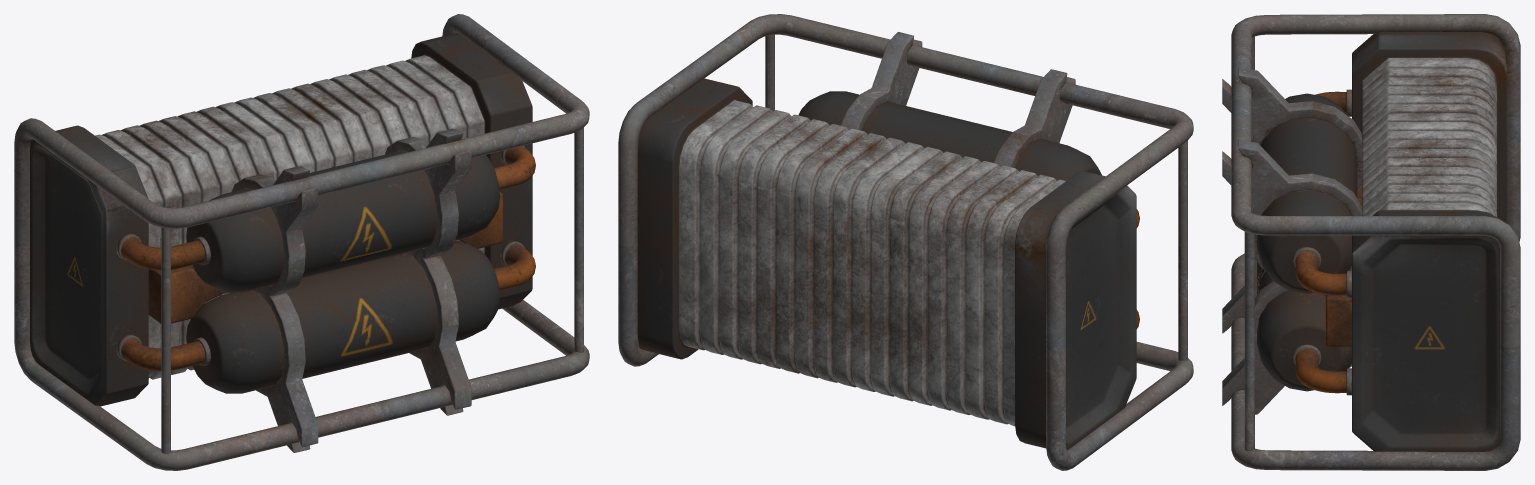
Rendered from Industrial Battery LP.fbx.
3 renders of one model, left to right at view 1: azimuth 30°, elevation 25°; view 2: azimuth 150°, elevation 25°; view 3: azimuth 270°, elevation 25°, orthographic. The views are drawn at different scales.
Parts seen in each view (by area): view 1: Battery; view 2: Battery; view 3: Battery.
Part boxes in pixels (left/top/right/bottom): Battery: left=14, top=14, right=589, bottom=470; Battery: left=618, top=14, right=1193, bottom=470; Battery: left=1222, top=14, right=1520, bottom=470.
Size of the model in its own units: 100 by 60 by 60.
Materials: 1 (1 with a texture image).
